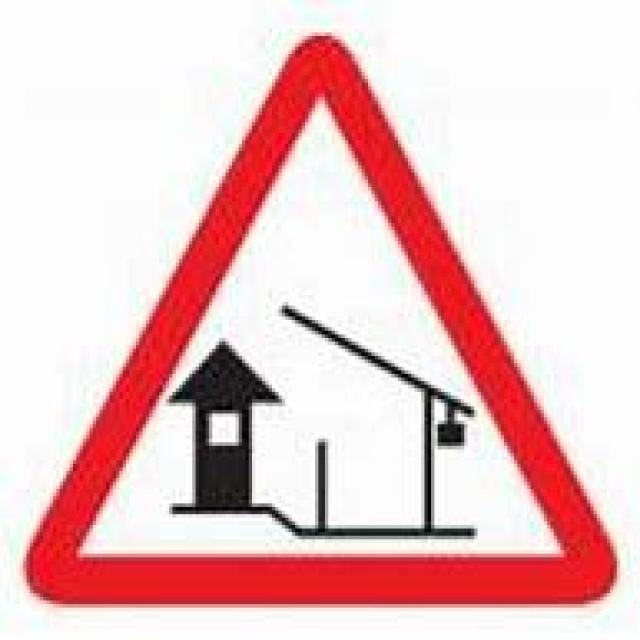BARRIER_AHEAD: (23, 29, 614, 608)
